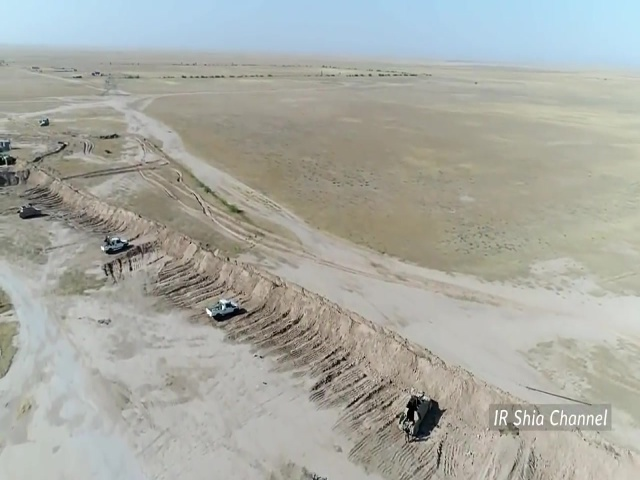vehicle: (398, 394, 433, 434), (205, 298, 238, 319), (100, 236, 130, 253), (18, 205, 44, 219)
